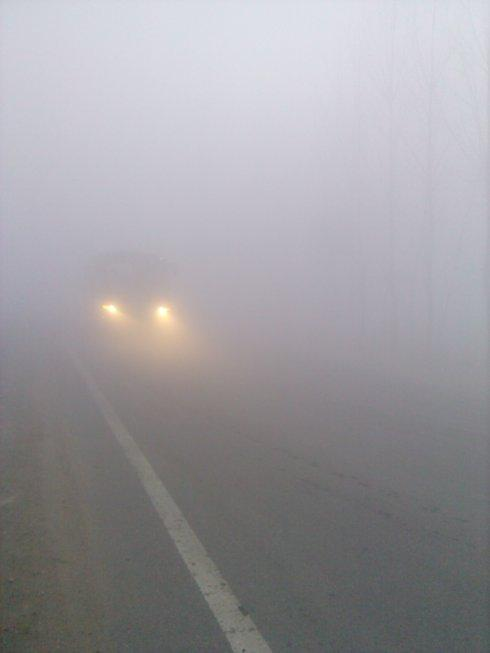car: (82, 250, 184, 357)
